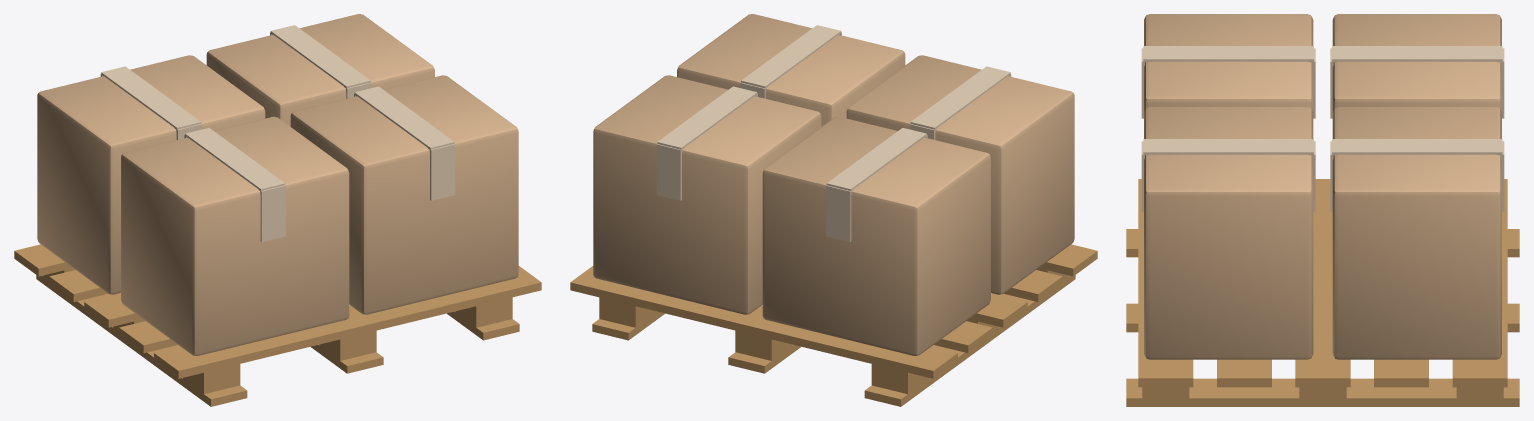
The model's file is pallet_cards.glb.
3 views of the same model, side by side, from view 1: azimuth 30°, elevation 25°; view 2: azimuth 150°, elevation 25°; view 3: azimuth 270°, elevation 25° (orthographic). The views are drawn at different scales.
Parts seen in each view (by area): view 1: Box_1, Box_2, Box_3, Box_4, Pallet_Top_-0.4, Box_3_Tape_Top, Box_4_Tape_Top, Box_2_Tape_Top, Box_1_Tape_Top, Pallet_Bottom_-0.45, Box_2_Tape_SideB, Box_1_Tape_SideB (+9 smaller); view 2: Box_3, Box_4, Box_1, Box_2, Pallet_Top_0.4, Box_2_Tape_Top, Box_1_Tape_Top, Box_4_Tape_Top, Box_3_Tape_Top, Pallet_Bottom_-0.45, Box_4_Tape_SideF, Box_3_Tape_SideF (+9 smaller); view 3: Box_2, Box_4, Box_1, Box_3, Pallet_Bottom_0.45, Pallet_Top_0.0, Box_2_Tape_Top, Box_4_Tape_Top, Box_3_Tape_Top, Box_1_Tape_Top, Pallet_Top_0.4, Pallet_Top_-0.4 (+7 smaller).
Boxes of the visible parts, x1=… form: Box_1: x1=121, y1=116, x2=349, y2=355; Box_2: x1=290, y1=75, x2=518, y2=314; Box_3: x1=37, y1=55, x2=265, y2=294; Box_4: x1=206, y1=14, x2=434, y2=126; Pallet_Top_-0.4: x1=154, y1=266, x2=541, y2=378; Box_3_Tape_Top: x1=101, y1=66, x2=201, y2=129; Box_4_Tape_Top: x1=270, y1=25, x2=370, y2=88; Box_2_Tape_Top: x1=354, y1=86, x2=454, y2=150; Box_1_Tape_Top: x1=185, y1=128, x2=285, y2=190; Pallet_Bottom_-0.45: x1=36, y1=275, x2=247, y2=406; Box_2_Tape_SideB: x1=429, y1=144, x2=455, y2=200; Box_1_Tape_SideB: x1=260, y1=185, x2=285, y2=241; Box_3: x1=762, y1=116, x2=990, y2=355; Box_4: x1=593, y1=75, x2=821, y2=314; Box_1: x1=846, y1=55, x2=1074, y2=294; Box_2: x1=677, y1=14, x2=905, y2=126; Pallet_Top_0.4: x1=570, y1=266, x2=957, y2=378; Box_2_Tape_Top: x1=741, y1=25, x2=841, y2=88; Box_1_Tape_Top: x1=910, y1=66, x2=1010, y2=129; Box_4_Tape_Top: x1=657, y1=86, x2=757, y2=149; Box_3_Tape_Top: x1=826, y1=128, x2=926, y2=191; Pallet_Bottom_-0.45: x1=864, y1=275, x2=1075, y2=406; Box_4_Tape_SideF: x1=656, y1=144, x2=682, y2=200; Box_3_Tape_SideF: x1=826, y1=185, x2=851, y2=241; Box_2: x1=1144, y1=107, x2=1313, y2=359; Box_4: x1=1332, y1=107, x2=1501, y2=359; Box_1: x1=1144, y1=14, x2=1313, y2=112; Box_3: x1=1332, y1=14, x2=1501, y2=112; Pallet_Bottom_0.45: x1=1126, y1=378, x2=1519, y2=406; Pallet_Top_0.0: x1=1295, y1=179, x2=1350, y2=387; Box_2_Tape_Top: x1=1143, y1=139, x2=1313, y2=155; Box_4_Tape_Top: x1=1332, y1=139, x2=1502, y2=155; Box_3_Tape_Top: x1=1332, y1=46, x2=1502, y2=62; Box_1_Tape_Top: x1=1143, y1=46, x2=1313, y2=62; Pallet_Top_0.4: x1=1452, y1=179, x2=1507, y2=387; Pallet_Top_-0.4: x1=1138, y1=179, x2=1193, y2=387.
Size of the model in its own units: 1.2 by 0.626 by 1.
